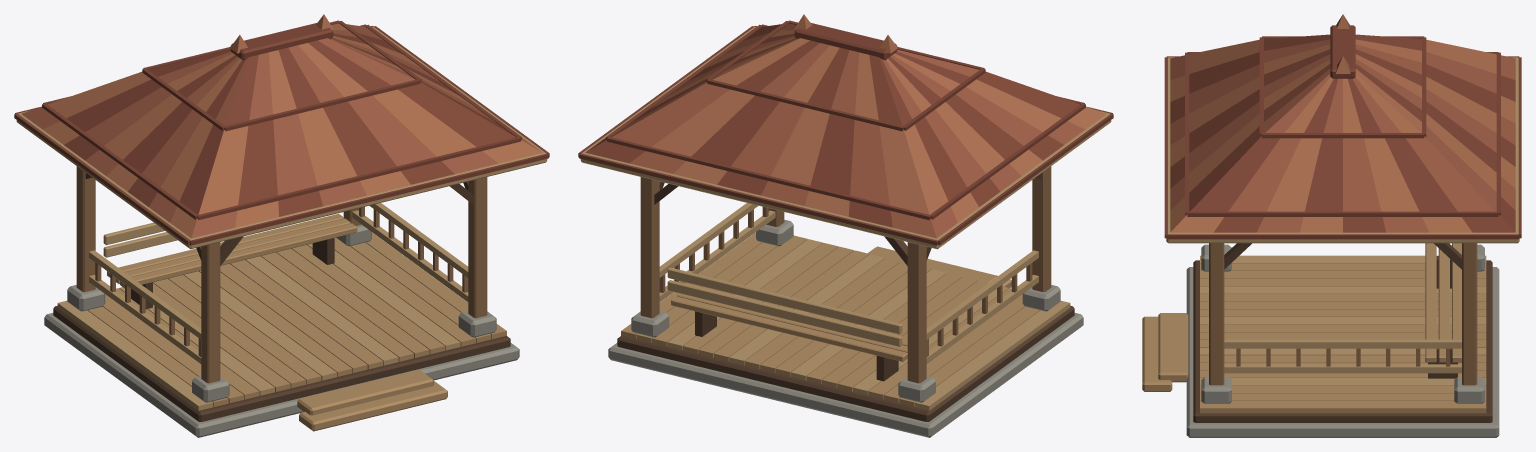
File: pavilion.glb
3 renders of one model, left to right at view 1: azimuth 30°, elevation 25°; view 2: azimuth 150°, elevation 25°; view 3: azimuth 270°, elevation 25°, orthographic.
Parts seen in each view (by area): view 1: surface; view 2: surface; view 3: surface.
Boxes of the visible parts, bbox=[...] form: surface: bbox=[14, 14, 549, 437]; surface: bbox=[578, 14, 1113, 437]; surface: bbox=[1142, 14, 1521, 437].
Size of the model in its own units: 6.36 by 5.37 by 5.7.
